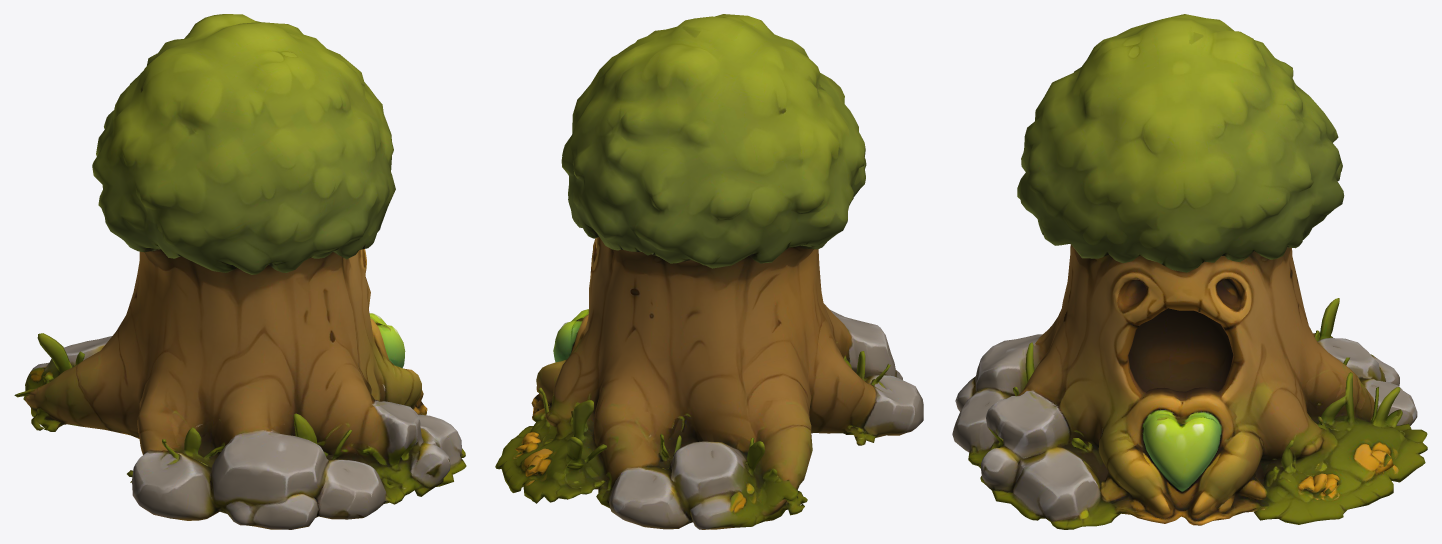
File: nat-base-lv1-7500.fbx
3 views of the same model, side by side, from view 1: azimuth 30°, elevation 25°; view 2: azimuth 150°, elevation 25°; view 3: azimuth 270°, elevation 25° (orthographic).
Visible parts, largest first — view 1: tripo_node_693113fb; view 2: tripo_node_693113fb; view 3: tripo_node_693113fb.
Boxes of the visible parts, <box> form: tripo_node_693113fb: <box>14,14,466,529</box>; tripo_node_693113fb: <box>495,14,923,529</box>; tripo_node_693113fb: <box>952,14,1427,529</box>.
Size of the model in its own units: 0.7817 by 0.9613 by 0.971.
